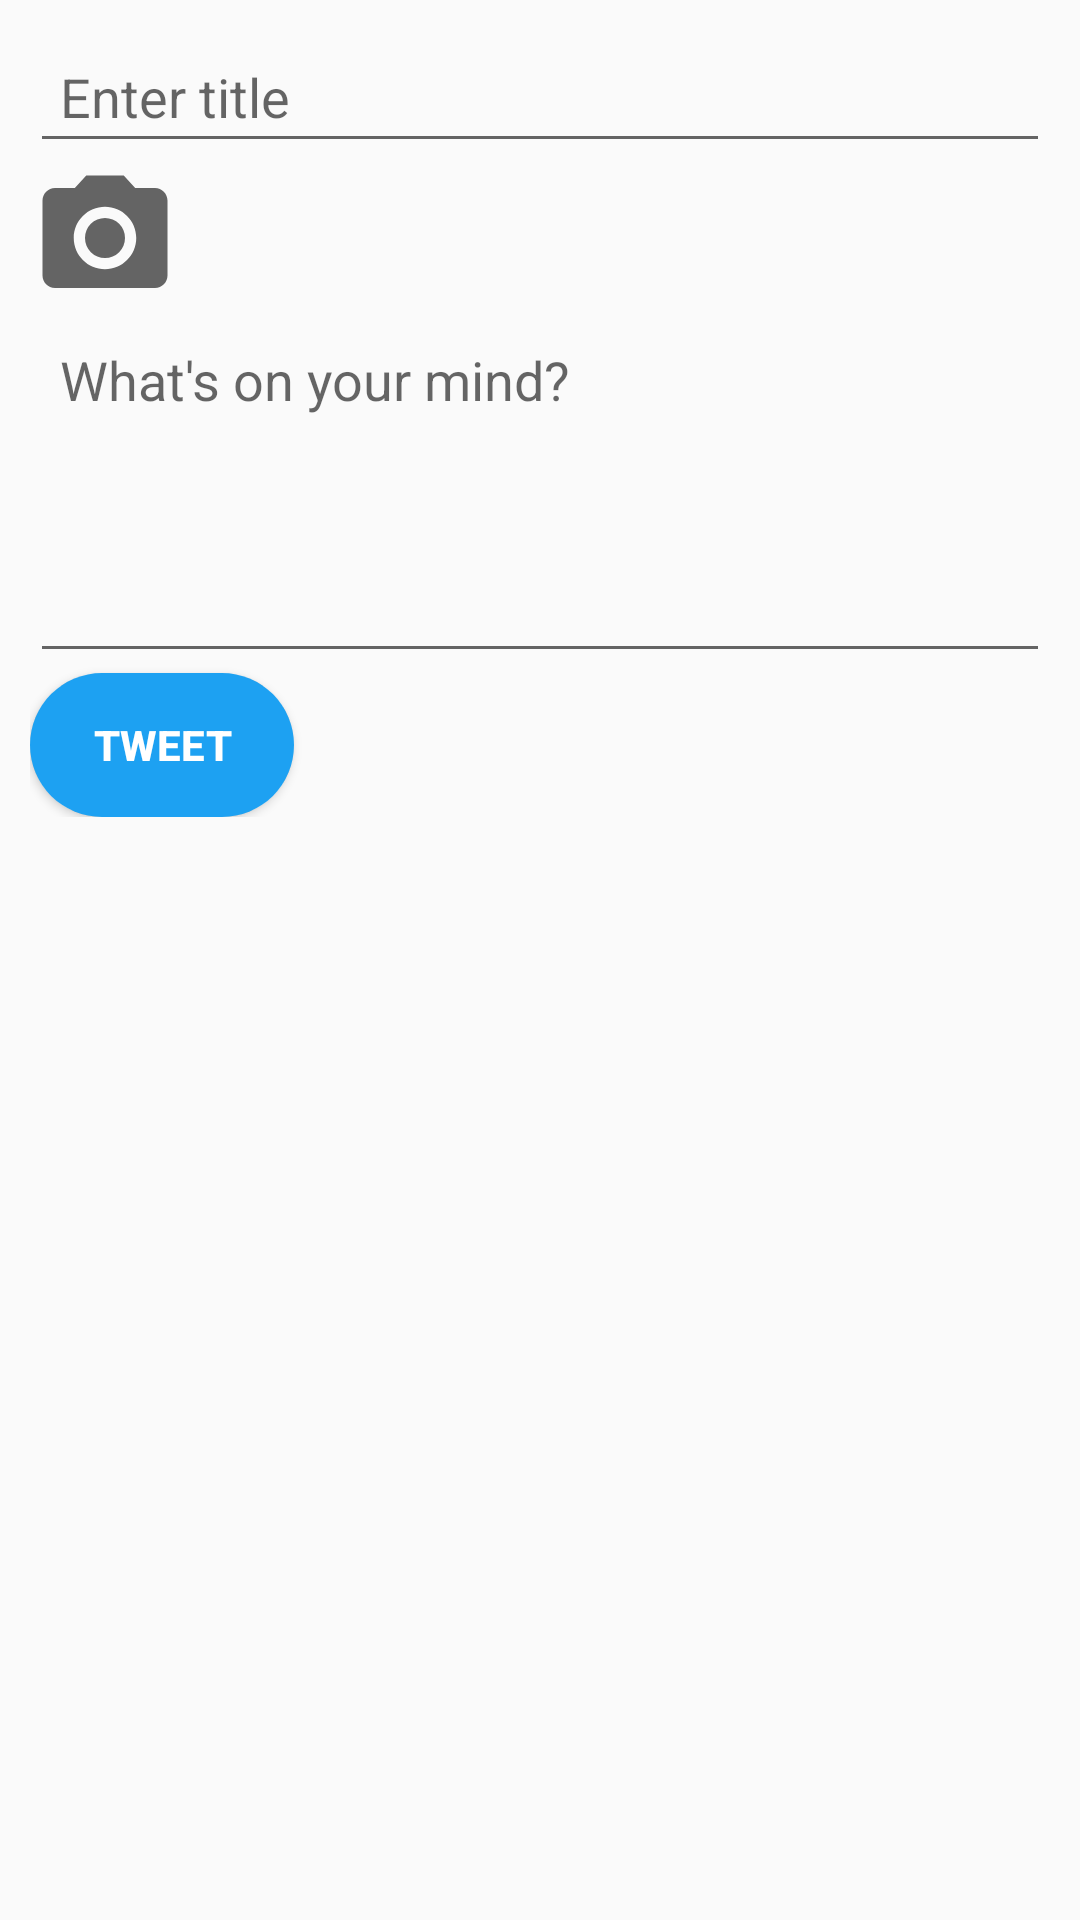

Point at icon controls on the screen. Image size 1080w x 1920h, points as point (x, y).
camera: point (105, 231)
